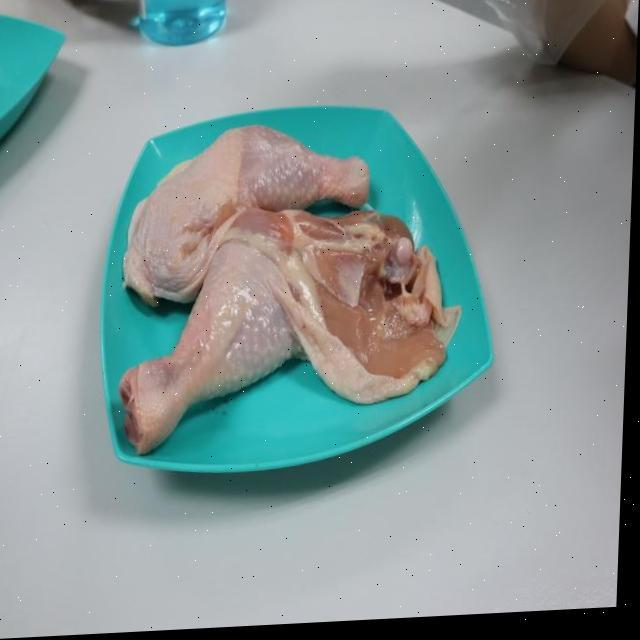quater: (123, 215, 472, 451), (105, 125, 407, 264)
